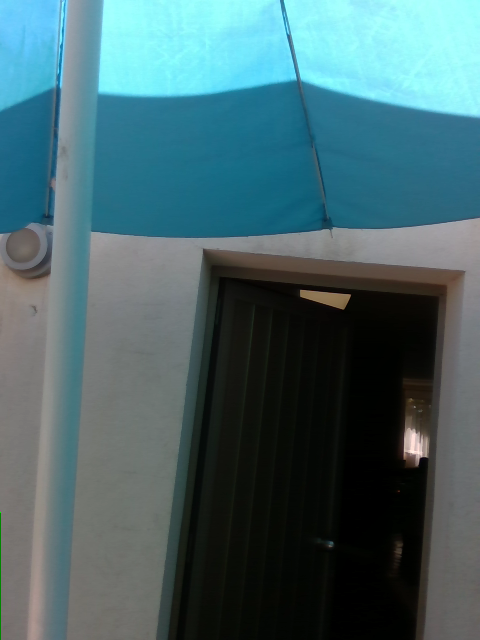semi: (157, 250, 461, 639)
